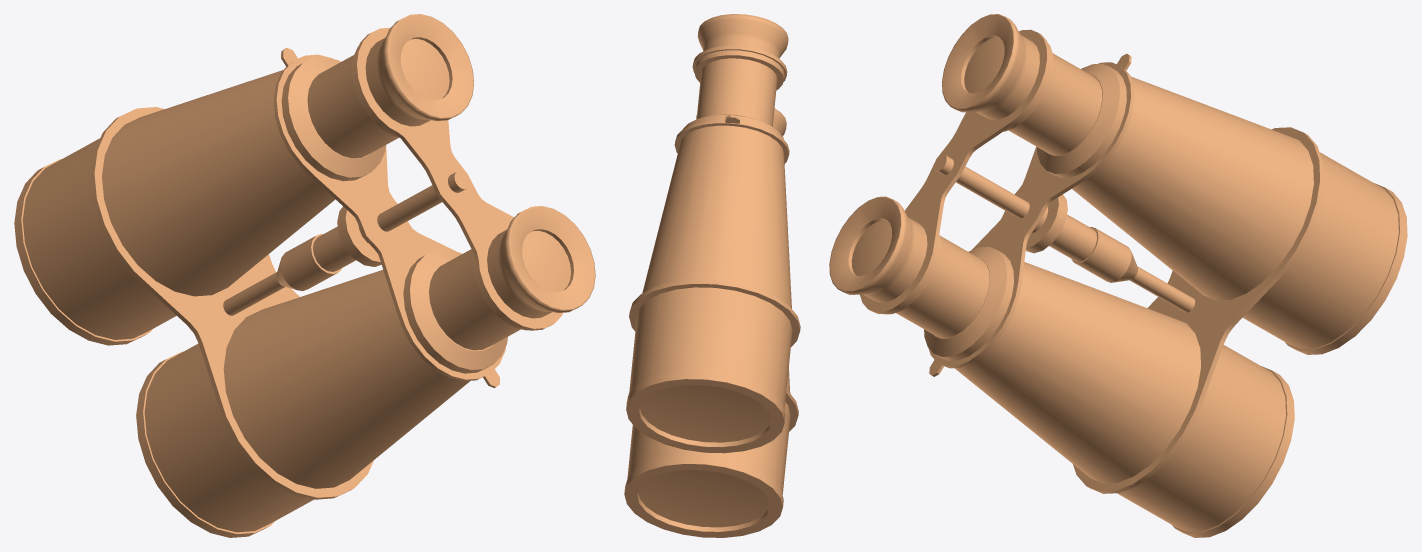
File: jumelles.glb
The picture shows the model from 3 angles, left to right: view 1: azimuth 30°, elevation 25°; view 2: azimuth 150°, elevation 25°; view 3: azimuth 270°, elevation 25°; orthographic projection. The views are drawn at different scales.
Visible parts, largest first — view 1: binoculars; view 2: binoculars; view 3: binoculars.
Part boxes in pixels (x1=…): binoculars: x1=14, y1=14, x2=595, y2=537; binoculars: x1=624, y1=14, x2=800, y2=537; binoculars: x1=829, y1=14, x2=1407, y2=537.
Bounding box in the file's own units: 0.1335 × 0.2161 × 0.2113.
